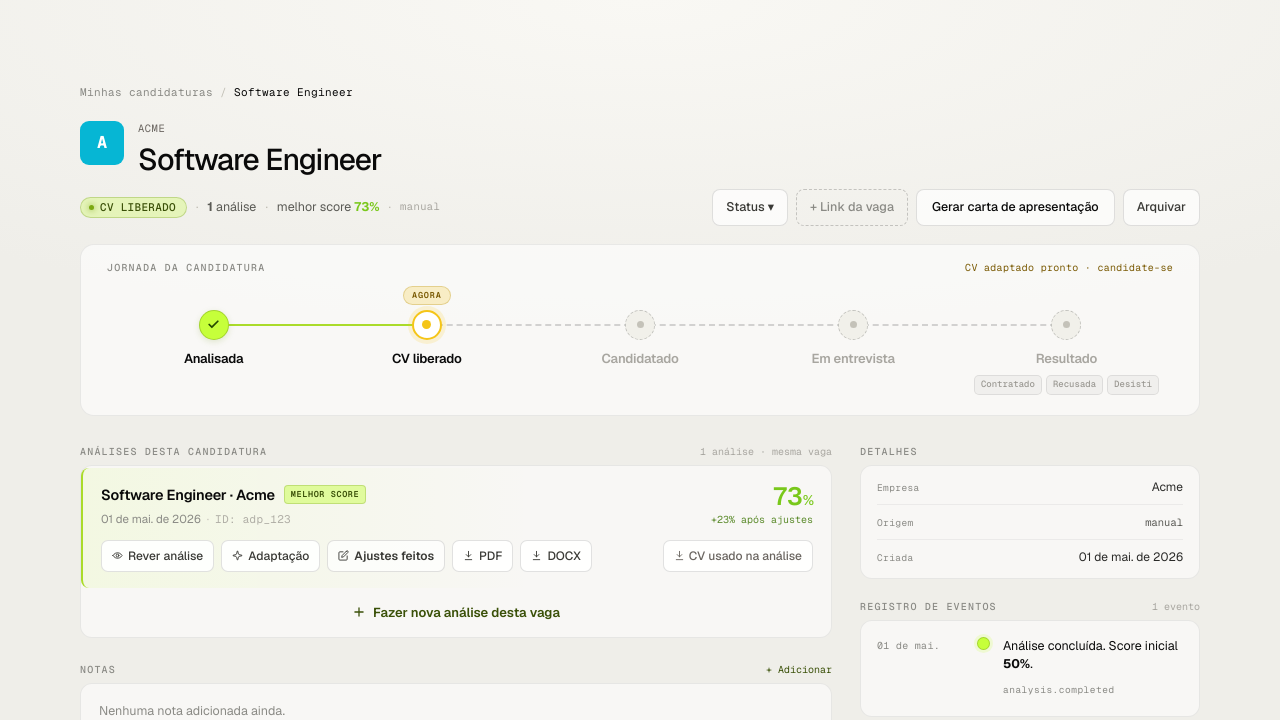
DetailClient - CV ADAPTADO card › shows fallback text when resume used cannot be identified
Step 1. Click the button "Ajustes feitos" → (386, 556), box [327, 540, 445, 572]
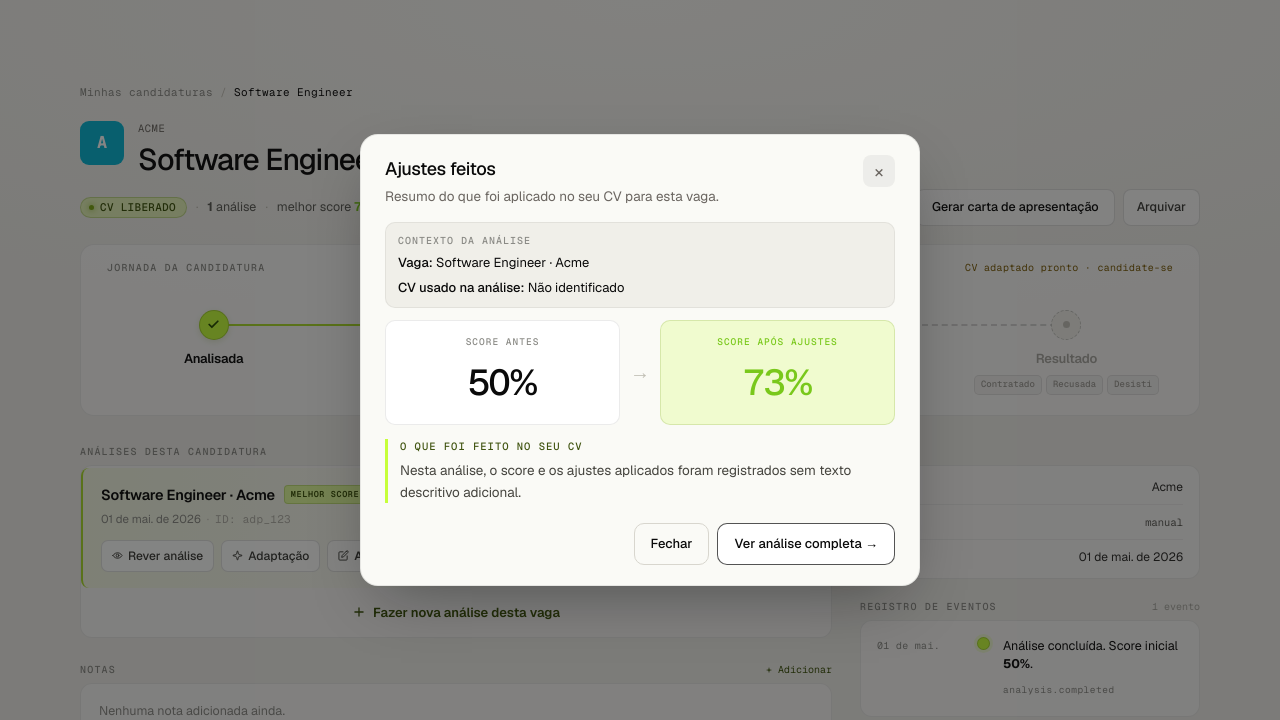
Now the text "Não identificado" is shown, box [528, 279, 624, 296]
